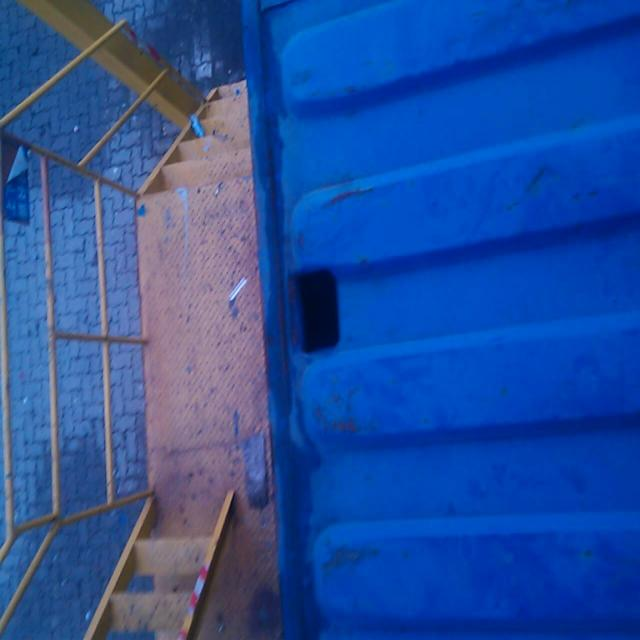hole: (286, 259, 349, 368)
